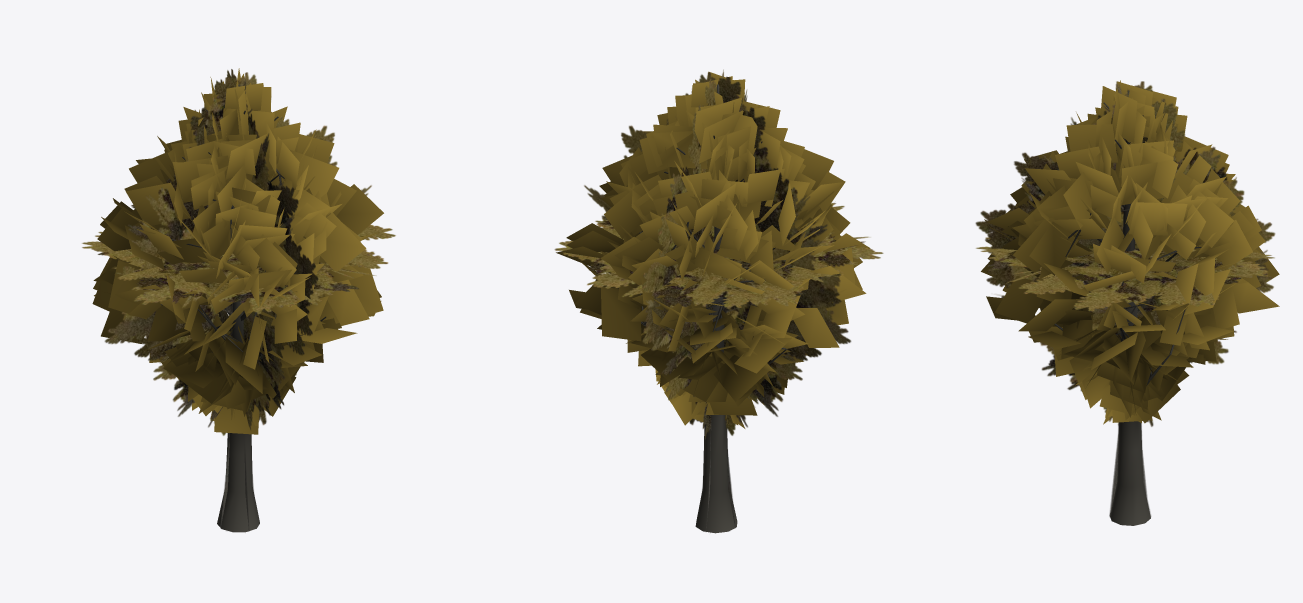
Rendered from veg.tree.ichou.mo.glb.
3 views of the same model, side by side, from view 1: azimuth 30°, elevation 25°; view 2: azimuth 150°, elevation 25°; view 3: azimuth 270°, elevation 25° (orthographic). The views are drawn at different scales.
Parts seen in each view (by area): view 1: LOD0, IMP; view 2: LOD0, IMP; view 3: LOD0, IMP.
Boxes of the visible parts, x1=… form: LOD0: x1=92, y1=68, x2=383, y2=532; IMP: x1=82, y1=69, x2=395, y2=530; LOD0: x1=556, y1=71, x2=870, y2=533; IMP: x1=554, y1=69, x2=883, y2=530; LOD0: x1=981, y1=80, x2=1279, y2=525; IMP: x1=975, y1=81, x2=1275, y2=516.
Size of what is drawn, in the model's own units: 7.53 by 11.47 by 7.53.
Materials: 3 (1 with a texture image).
